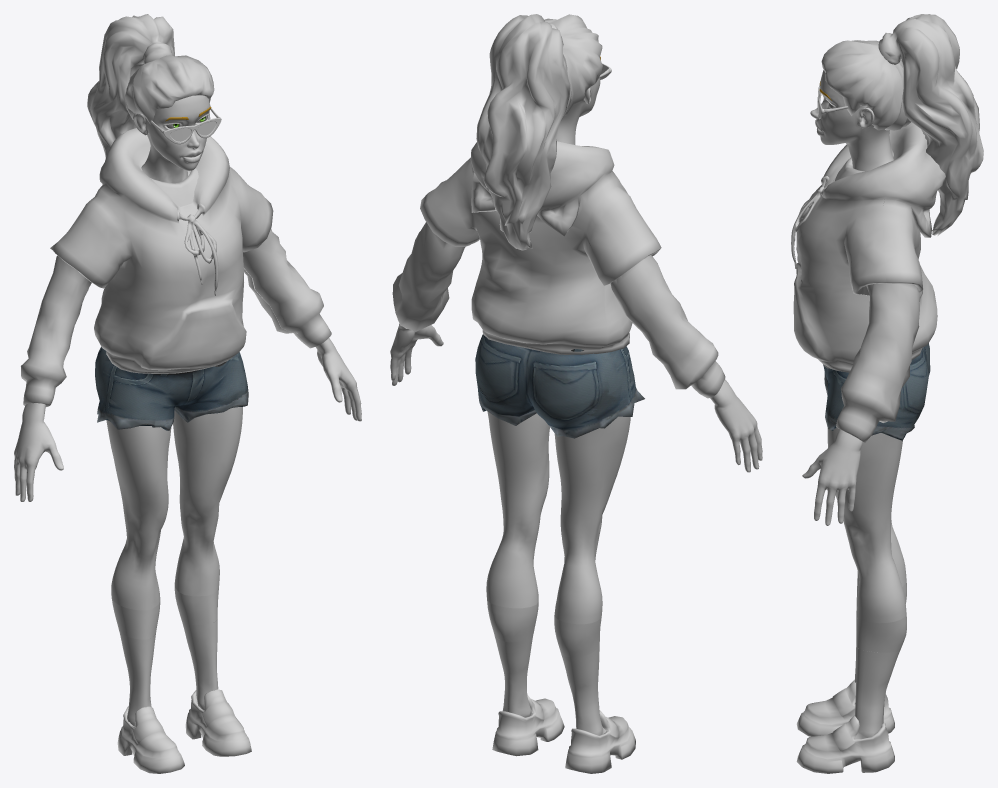
The model's file is Character 12.fbx.
The picture shows the model from 3 angles, left to right: view 1: azimuth 30°, elevation 25°; view 2: azimuth 150°, elevation 25°; view 3: azimuth 270°, elevation 25°; orthographic projection. The views are drawn at different scales.
Parts seen in each view (by area): view 1: Wolf3D_Outfit_Top, legs.001, Wolf3D_Hair, shorts.002, Wolf3D_Outfit_Footwear, body.003, head, legs.002, legs.003, Wolf3D_Glasses; view 2: Wolf3D_Outfit_Top, legs.001, Wolf3D_Hair, shorts.002, Wolf3D_Outfit_Footwear, legs.002, body.003, legs.003, head; view 3: Wolf3D_Outfit_Top, Wolf3D_Hair, legs.001, Wolf3D_Outfit_Footwear, head, shorts.002, body.003, legs.002, legs.003.
Boxes of the visible parts, bbox=[...] form: Wolf3D_Outfit_Top: bbox=[21, 128, 331, 406]; legs.001: bbox=[106, 407, 242, 610]; Wolf3D_Hair: bbox=[87, 14, 214, 158]; shorts.002: bbox=[95, 347, 248, 430]; Wolf3D_Outfit_Footwear: bbox=[117, 689, 251, 773]; body.003: bbox=[14, 338, 361, 501]; head: bbox=[133, 95, 211, 183]; legs.002: bbox=[119, 619, 218, 726]; legs.003: bbox=[111, 584, 218, 639]; Wolf3D_Glasses: bbox=[150, 108, 221, 144]; Wolf3D_Outfit_Top: bbox=[392, 141, 725, 398]; legs.001: bbox=[486, 412, 630, 624]; Wolf3D_Hair: bbox=[476, 14, 602, 250]; shorts.002: bbox=[475, 334, 644, 438]; Wolf3D_Outfit_Footwear: bbox=[492, 695, 635, 773]; legs.002: bbox=[494, 633, 605, 735]; body.003: bbox=[390, 324, 762, 472]; legs.003: bbox=[487, 600, 601, 657]; head: bbox=[556, 56, 600, 144]; Wolf3D_Outfit_Top: bbox=[791, 122, 945, 442]; Wolf3D_Hair: bbox=[821, 14, 983, 235]; legs.001: bbox=[827, 427, 906, 623]; Wolf3D_Outfit_Footwear: bbox=[796, 679, 894, 773]; head: bbox=[810, 70, 893, 171]; shorts.002: bbox=[823, 343, 930, 440]; body.003: bbox=[802, 429, 862, 525]; legs.002: bbox=[854, 613, 900, 738]; legs.003: bbox=[856, 580, 906, 652].
Size of the model in its own units: 96.47 by 194 by 46.6.
